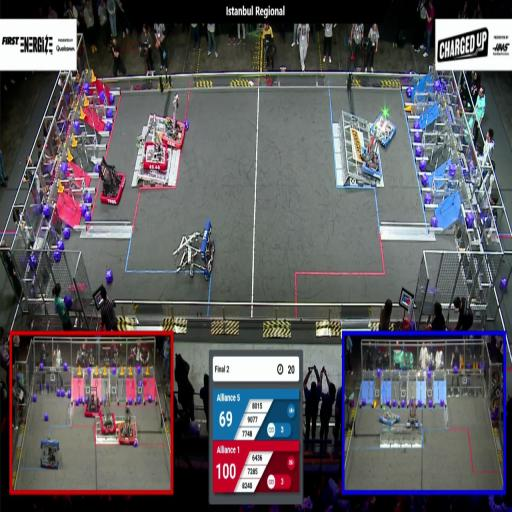robot: (171, 216, 214, 282), (135, 113, 169, 172), (97, 156, 126, 206), (162, 94, 187, 152), (359, 135, 384, 180), (370, 108, 397, 148), (38, 434, 62, 472), (117, 402, 136, 448), (100, 392, 116, 436), (84, 385, 102, 420), (404, 396, 421, 432), (377, 403, 400, 428)
